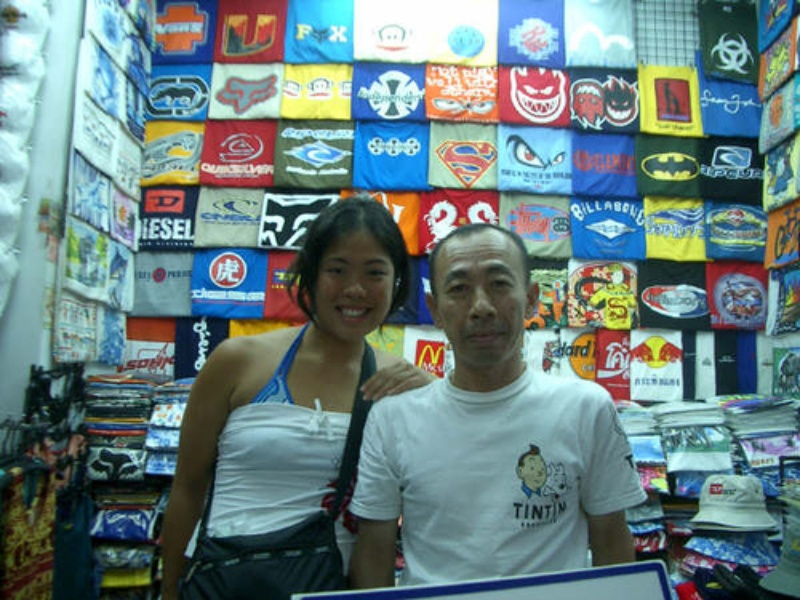person: (157, 198, 438, 600), (346, 224, 648, 589)
